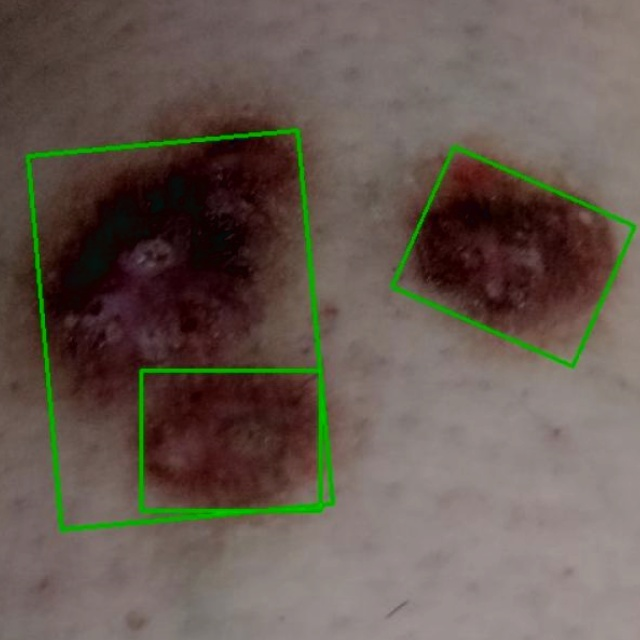Eczema: (26, 130, 331, 528), (391, 145, 634, 366), (141, 370, 320, 510)
